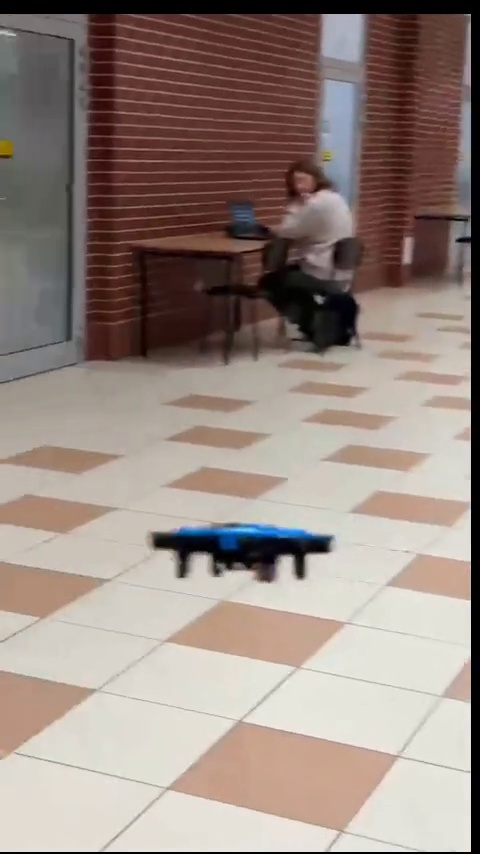drone: (144, 518, 336, 588)
no vest: (263, 159, 365, 355)
